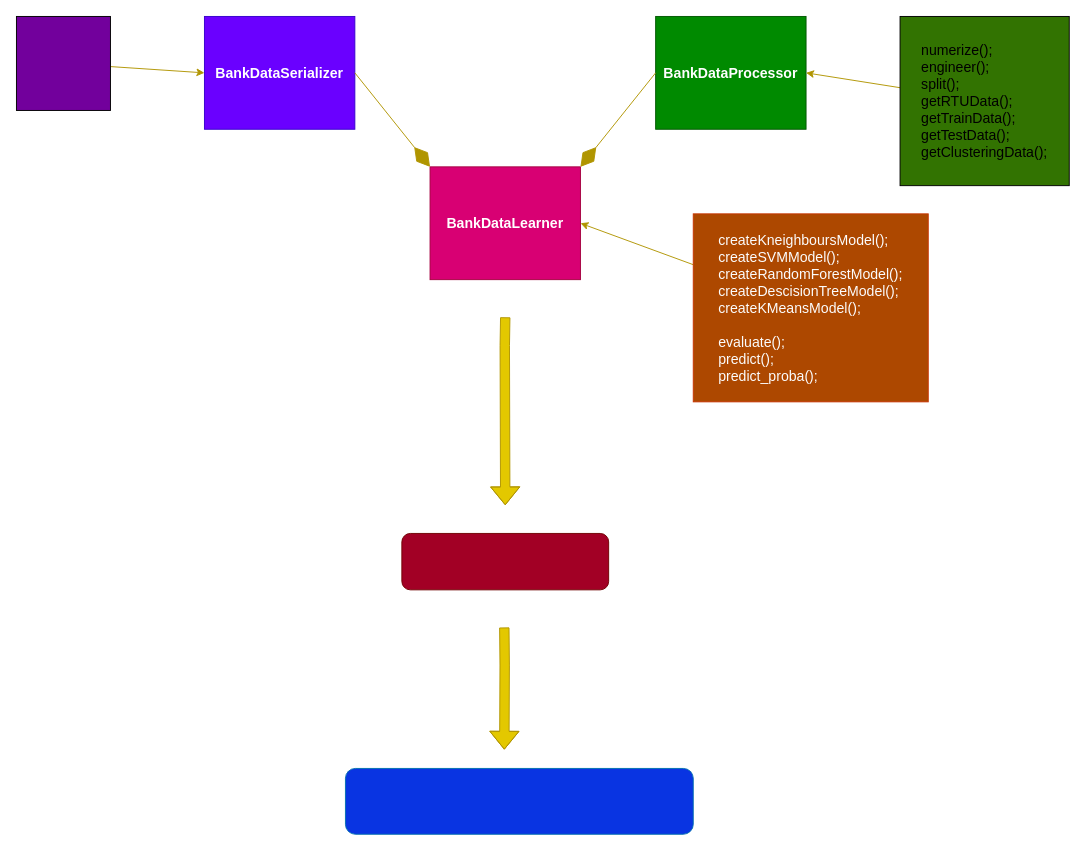
This 1086x851 diagram has some shape labels left out. Here are the shapes that lost their labels. From the top down, the box of each, then its label:
(16, 16, 110, 110): save(); load();
(401, 533, 609, 590): Generating The Model
(345, 768, 693, 834): Classifing Or Clustering The New Data Targets
